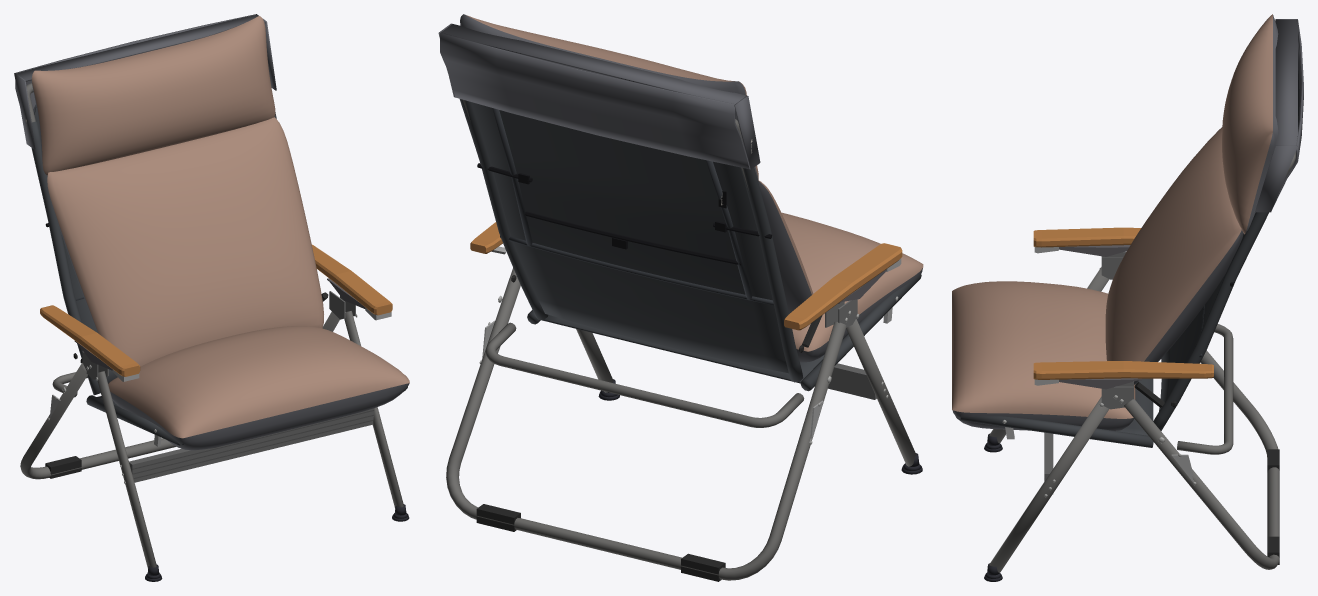
The model's file is snowpeak-reclining-chair-wide.glb.
The picture shows the model from 3 angles, left to right: view 1: azimuth 30°, elevation 25°; view 2: azimuth 150°, elevation 25°; view 3: azimuth 270°, elevation 25°; orthographic projection. The views are drawn at different scales.
Parts seen in each view (by area): view 1: snowpeak-reclining-chair-wide-cushion, snowpeak-reclining-chair-wide-under, snowpeak-reclining-chair-wide-frame, snowpeak-reclining-chair-wide-wood, snowpeak-reclining-chair-wide-cross, snowpeak-reclining-chair-wide-mesh, snowpeak-reclining-chair-wide-groove, snowpeak-reclining-chair-wide-plate, snowpeak-reclining-chair-wide-pad; view 2: snowpeak-reclining-chair-wide-mesh, snowpeak-reclining-chair-wide-under, snowpeak-reclining-chair-wide-frame, snowpeak-reclining-chair-wide-cushion, snowpeak-reclining-chair-wide-wood, snowpeak-reclining-chair-wide-band, snowpeak-reclining-chair-wide-pad, snowpeak-reclining-chair-wide-strap, snowpeak-reclining-chair-wide-cross, snowpeak-reclining-chair-wide-steel, snowpeak-reclining-chair-wide-plate, snowpeak-reclining-chair-wide-cushion_tag; view 3: snowpeak-reclining-chair-wide-cushion, snowpeak-reclining-chair-wide-frame, snowpeak-reclining-chair-wide-under, snowpeak-reclining-chair-wide-mesh, snowpeak-reclining-chair-wide-wood, snowpeak-reclining-chair-wide-tray, snowpeak-reclining-chair-wide-plate, snowpeak-reclining-chair-wide-pad, snowpeak-reclining-chair-wide-steel, snowpeak-reclining-chair-wide-foot.
Boxes of the visible parts, <box> form: snowpeak-reclining-chair-wide-cushion: <box>31,16,409,438</box>; snowpeak-reclining-chair-wide-under: <box>14,14,409,450</box>; snowpeak-reclining-chair-wide-frame: <box>20,83,403,568</box>; snowpeak-reclining-chair-wide-wood: <box>40,244,392,376</box>; snowpeak-reclining-chair-wide-cross: <box>129,408,374,482</box>; snowpeak-reclining-chair-wide-mesh: <box>31,107,407,445</box>; snowpeak-reclining-chair-wide-groove: <box>132,409,374,478</box>; snowpeak-reclining-chair-wide-plate: <box>82,291,355,379</box>; snowpeak-reclining-chair-wide-pad: <box>45,292,328,478</box>; snowpeak-reclining-chair-wide-mesh: <box>459,99,921,391</box>; snowpeak-reclining-chair-wide-under: <box>438,14,922,362</box>; snowpeak-reclining-chair-wide-frame: <box>446,100,916,580</box>; snowpeak-reclining-chair-wide-cushion: <box>466,15,923,351</box>; snowpeak-reclining-chair-wide-wood: <box>470,222,902,330</box>; snowpeak-reclining-chair-wide-band: <box>492,108,773,305</box>; snowpeak-reclining-chair-wide-pad: <box>476,275,822,581</box>; snowpeak-reclining-chair-wide-strap: <box>525,211,741,265</box>; snowpeak-reclining-chair-wide-cross: <box>828,363,876,399</box>; snowpeak-reclining-chair-wide-steel: <box>481,246,901,442</box>; snowpeak-reclining-chair-wide-plate: <box>825,299,857,327</box>; snowpeak-reclining-chair-wide-cushion_tag: <box>477,163,771,238</box>; snowpeak-reclining-chair-wide-cushion: <box>952,14,1272,418</box>; snowpeak-reclining-chair-wide-frame: <box>989,152,1295,572</box>; snowpeak-reclining-chair-wide-under: <box>952,15,1303,430</box>; snowpeak-reclining-chair-wide-mesh: <box>956,212,1268,447</box>; snowpeak-reclining-chair-wide-wood: <box>1033,227,1213,379</box>; snowpeak-reclining-chair-wide-tray: <box>1059,245,1141,389</box>; snowpeak-reclining-chair-wide-plate: <box>1101,251,1133,409</box>; snowpeak-reclining-chair-wide-pad: <box>1134,382,1279,564</box>; snowpeak-reclining-chair-wide-steel: <box>1005,247,1194,482</box>; snowpeak-reclining-chair-wide-foot: <box>984,433,1002,581</box>.
Size of the model in its own units: 0.697 by 1 by 0.7238.
